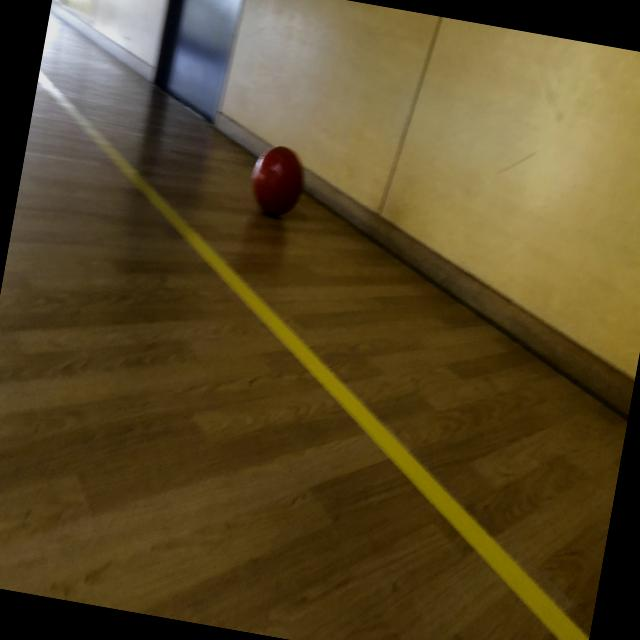red_ball: (246, 142, 309, 222)
